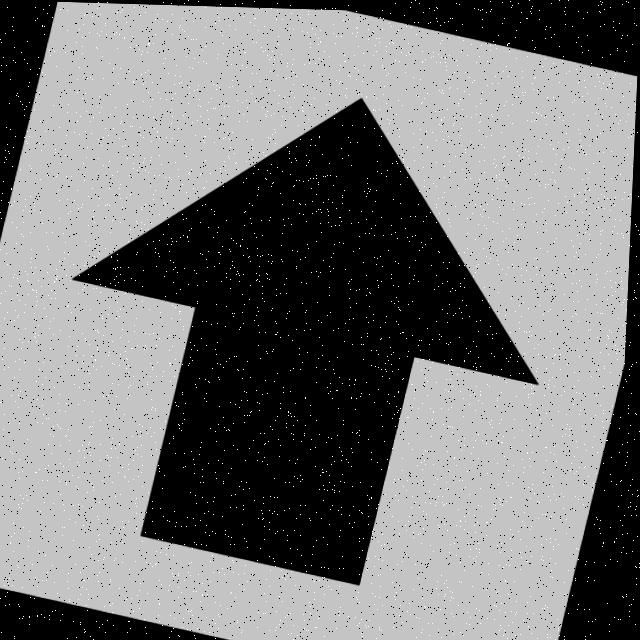UP: (78, 98, 539, 581)
